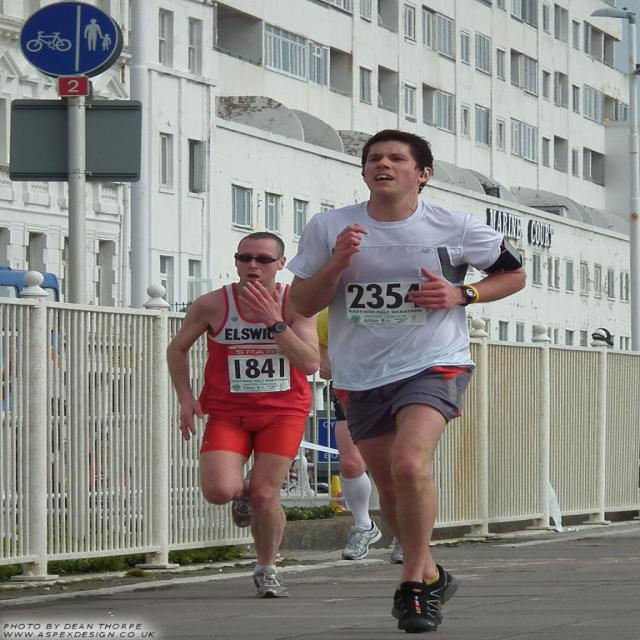Bib: (342, 280, 408, 314), (228, 357, 288, 383)
